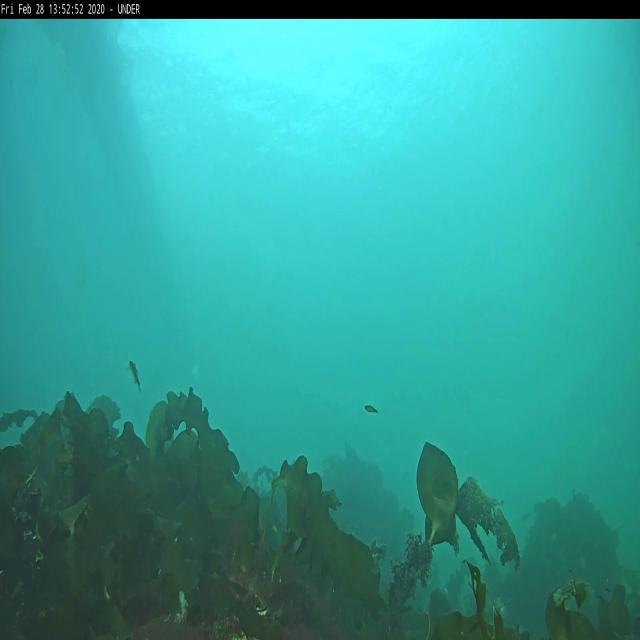fish: (128, 362, 141, 388), (365, 404, 378, 416)
